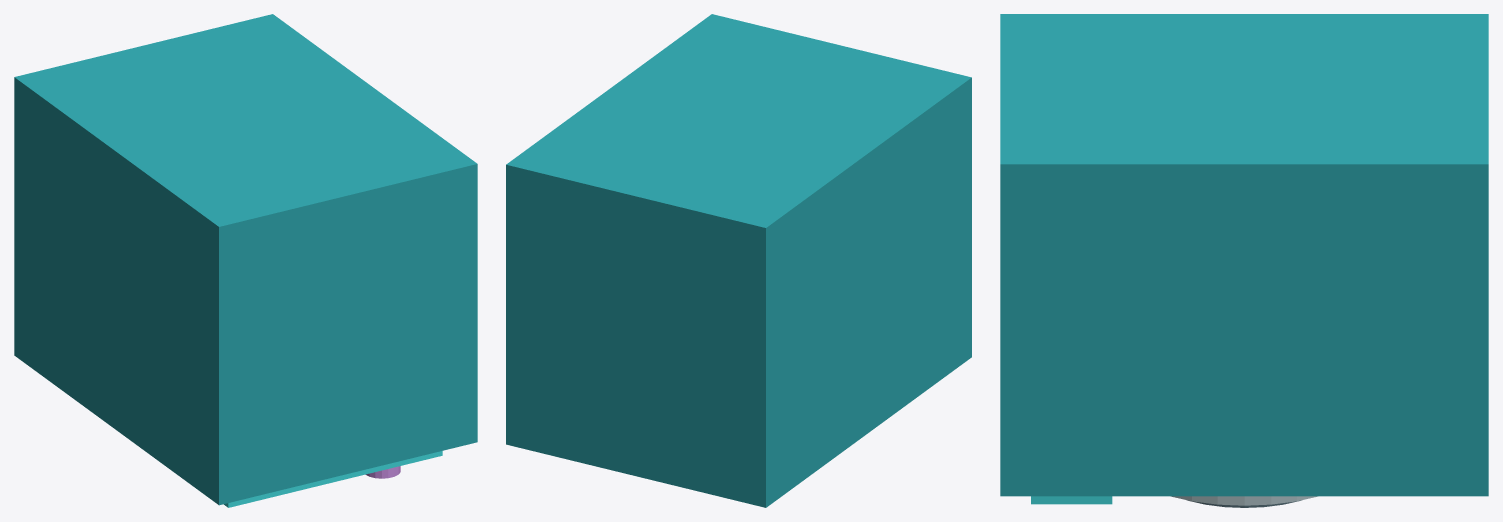
Rendered from washer.glb.
3 renders of one model, left to right at view 1: azimuth 30°, elevation 25°; view 2: azimuth 150°, elevation 25°; view 3: azimuth 270°, elevation 25°, orthographic. The views are drawn at different scales.
Parts seen in each view (by area): view 1: world; view 2: world; view 3: world.
Part boxes in pixels (x1=…): world: x1=14, y1=14, x2=477, y2=507; world: x1=506, y1=14, x2=971, y2=507; world: x1=1000, y1=14, x2=1488, y2=507.
Size of the model in its own units: 0.7 by 0.815 by 0.96.
